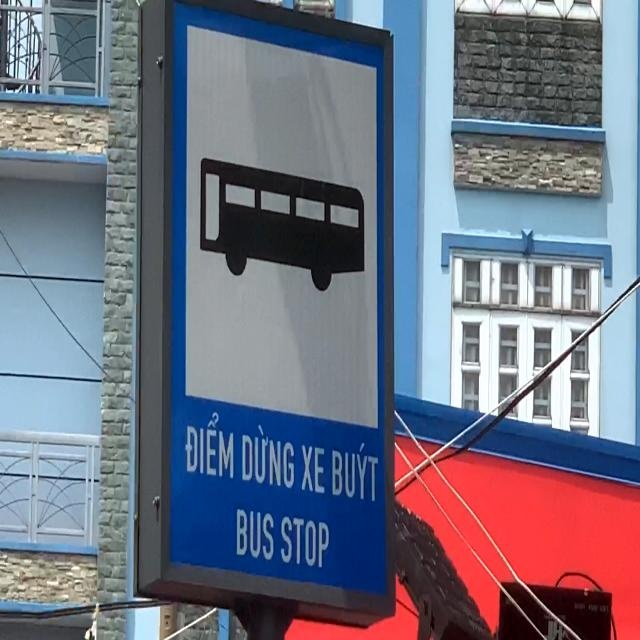bien_chi_dan: (165, 0, 394, 609)
